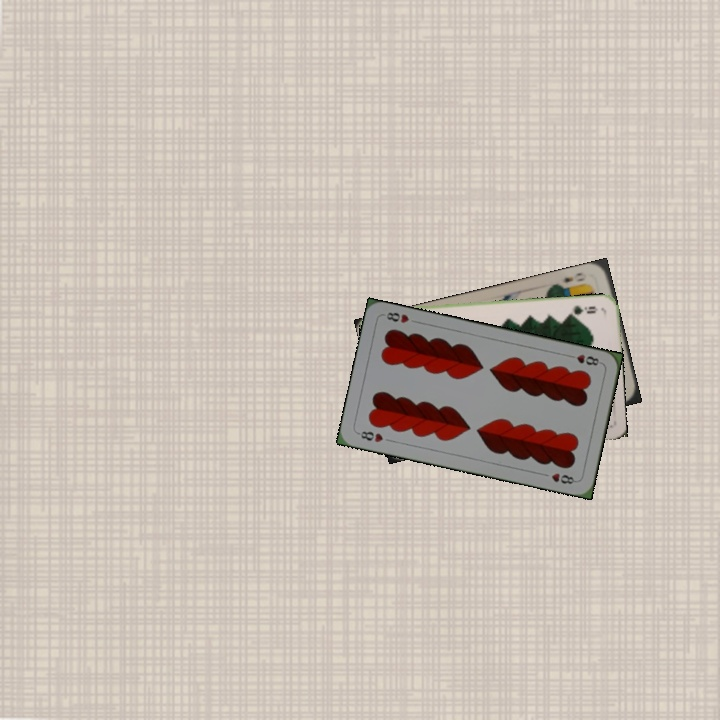EO: (559, 268, 588, 285)
G9: (563, 301, 600, 319)
H8: (564, 350, 604, 368), (354, 427, 386, 445)
